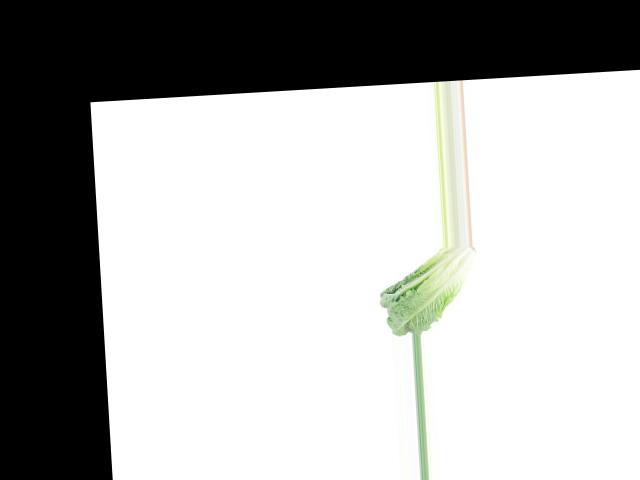lettuce: (375, 245, 481, 336)
